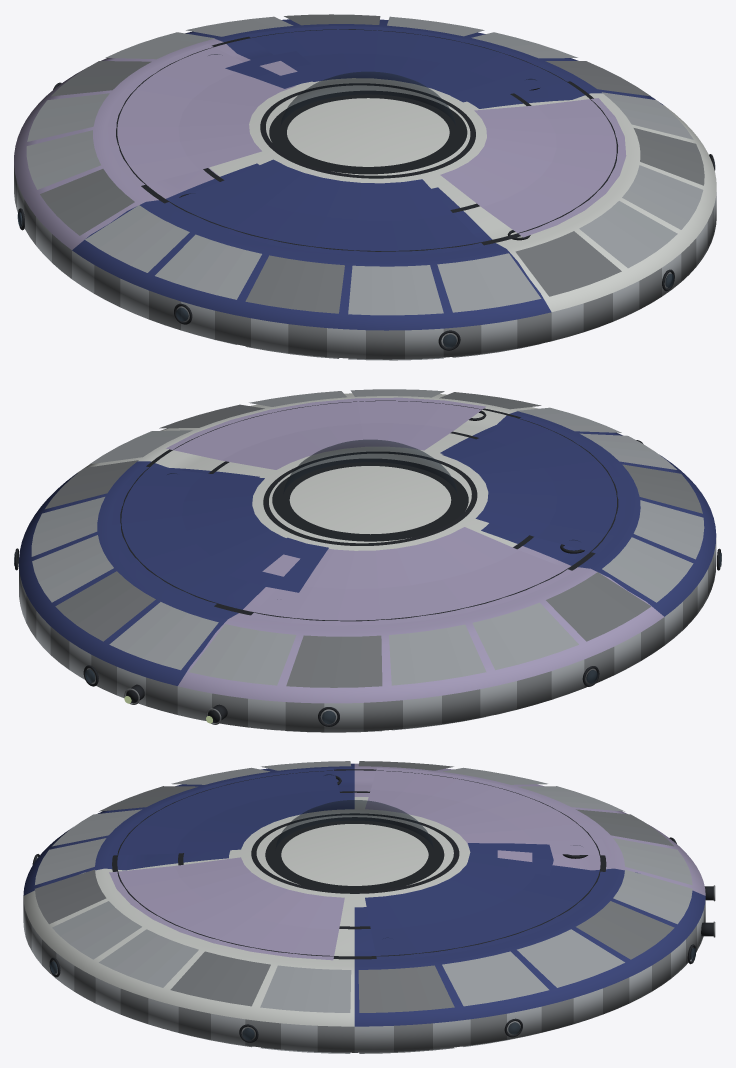
The model's file is Ship_FlyingSaucer_301176.glb.
The picture shows the model from 3 angles, top to bottom: view 1: azimuth 30°, elevation 25°; view 2: azimuth 150°, elevation 25°; view 3: azimuth 270°, elevation 25°; orthographic projection. The views are drawn at different scales.
Visible parts, largest first — view 1: Hull_LenticularThickDiscBody, PaintQuadrant_Top_03_LargePanel, PaintQuadrant_Top_04_LargePanel, PaintQuadrant_Top_02_LargePanel, PaintQuadrant_Top_01_LargePanel, CommandDomeFrame_UpperCircularRim, RimArmorSegment_14_UpperHullPlate, RimArmorSegment_13_UpperHullPlate, RimArmorSegment_15_UpperHullPlate, RimArmorSegment_12_UpperHullPlate, RimArmorSegment_16_UpperHullPlate, RimArmorSegment_11_UpperHullPlate (+18 smaller); view 2: Hull_LenticularThickDiscBody, PaintQuadrant_Top_02_LargePanel, PaintQuadrant_Top_01_LargePanel, PaintQuadrant_Top_03_LargePanel, PaintQuadrant_Top_04_LargePanel, RimArmorSegment_07_UpperHullPlate, RimArmorSegment_08_UpperHullPlate, RimArmorSegment_06_UpperHullPlate, CommandDomeFrame_UpperCircularRim, RimArmorSegment_09_UpperHullPlate, RimArmorSegment_05_UpperHullPlate, RimArmorSegment_10_UpperHullPlate (+18 smaller); view 3: Hull_LenticularThickDiscBody, PaintQuadrant_Top_01_LargePanel, PaintQuadrant_Top_04_LargePanel, PaintQuadrant_Top_03_LargePanel, PaintQuadrant_Top_02_LargePanel, RimArmorSegment_01_UpperHullPlate, RimArmorSegment_02_UpperHullPlate, RimArmorSegment_20_UpperHullPlate, CommandDomeFrame_UpperCircularRim, RimArmorSegment_19_UpperHullPlate, RimArmorSegment_03_UpperHullPlate, RimArmorSegment_18_UpperHullPlate (+18 smaller).
Boxes of the visible parts, x1=… form: Hull_LenticularThickDiscBody: x1=14, y1=19, x2=716, y2=359; PaintQuadrant_Top_03_LargePanel: x1=162, y1=159, x2=484, y2=255; PaintQuadrant_Top_04_LargePanel: x1=440, y1=98, x2=626, y2=237; PaintQuadrant_Top_02_LargePanel: x1=107, y1=44, x2=295, y2=186; PaintQuadrant_Top_01_LargePanel: x1=246, y1=26, x2=573, y2=102; CommandDomeFrame_UpperCircularRim: x1=269, y1=91, x2=467, y2=174; RimArmorSegment_14_UpperHullPlate: x1=348, y1=265, x2=443, y2=315; RimArmorSegment_13_UpperHullPlate: x1=245, y1=255, x2=344, y2=313; RimArmorSegment_15_UpperHullPlate: x1=437, y1=253, x2=541, y2=312; RimArmorSegment_12_UpperHullPlate: x1=155, y1=234, x2=261, y2=299; RimArmorSegment_16_UpperHullPlate: x1=515, y1=231, x2=621, y2=296; RimArmorSegment_11_UpperHullPlate: x1=85, y1=205, x2=189, y2=272; Hull_LenticularThickDiscBody: x1=19, y1=393, x2=716, y2=732; PaintQuadrant_Top_02_LargePanel: x1=249, y1=527, x2=574, y2=625; PaintQuadrant_Top_01_LargePanel: x1=111, y1=466, x2=285, y2=607; PaintQuadrant_Top_03_LargePanel: x1=442, y1=416, x2=626, y2=554; PaintQuadrant_Top_04_LargePanel: x1=166, y1=397, x2=485, y2=469; RimArmorSegment_07_UpperHullPlate: x1=286, y1=635, x2=382, y2=687; RimArmorSegment_08_UpperHullPlate: x1=389, y1=624, x2=486, y2=685; RimArmorSegment_06_UpperHullPlate: x1=189, y1=624, x2=296, y2=685; CommandDomeFrame_UpperCircularRim: x1=272, y1=459, x2=468, y2=541; RimArmorSegment_09_UpperHullPlate: x1=472, y1=602, x2=578, y2=670; RimArmorSegment_05_UpperHullPlate: x1=109, y1=602, x2=218, y2=670; RimArmorSegment_10_UpperHullPlate: x1=546, y1=572, x2=651, y2=641; Hull_LenticularThickDiscBody: x1=23, y1=763, x2=705, y2=1052; PaintQuadrant_Top_01_LargePanel: x1=365, y1=861, x2=609, y2=960; PaintQuadrant_Top_04_LargePanel: x1=109, y1=857, x2=344, y2=960; PaintQuadrant_Top_03_LargePanel: x1=109, y1=768, x2=344, y2=855; PaintQuadrant_Top_02_LargePanel: x1=365, y1=767, x2=609, y2=855; RimArmorSegment_01_UpperHullPlate: x1=358, y1=965, x2=454, y2=1012; RimArmorSegment_02_UpperHullPlate: x1=442, y1=951, x2=548, y2=1006; RimArmorSegment_20_UpperHullPlate: x1=260, y1=965, x2=351, y2=1012; CommandDomeFrame_UpperCircularRim: x1=265, y1=817, x2=444, y2=891; RimArmorSegment_19_UpperHullPlate: x1=170, y1=951, x2=270, y2=1006; RimArmorSegment_03_UpperHullPlate: x1=517, y1=929, x2=624, y2=987; RimArmorSegment_18_UpperHullPlate: x1=99, y1=929, x2=198, y2=987.
Size of the model in its own units: 4.92 by 1.41 by 5.58.
